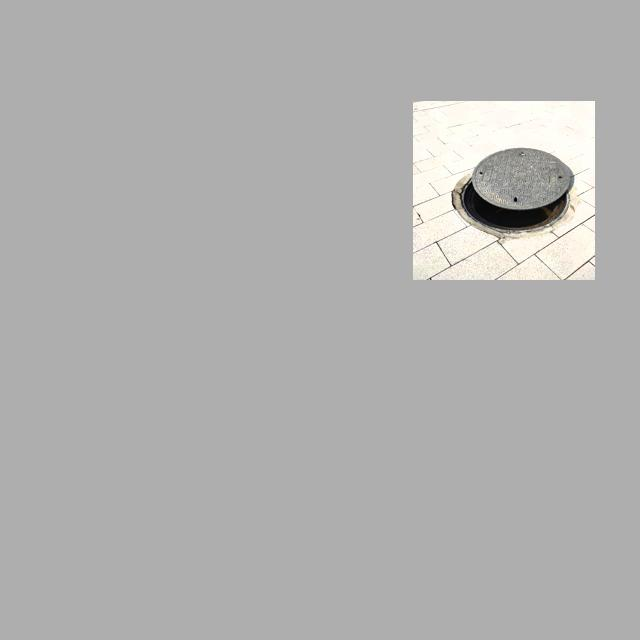uncovered: (461, 147, 570, 231)
